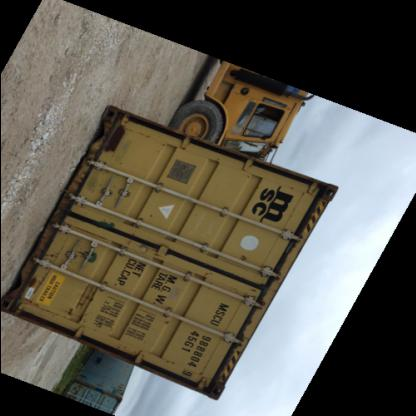Damage: (60, 278, 104, 324), (103, 120, 134, 162), (47, 244, 101, 266), (131, 210, 163, 230), (232, 245, 254, 271), (156, 319, 182, 335)
